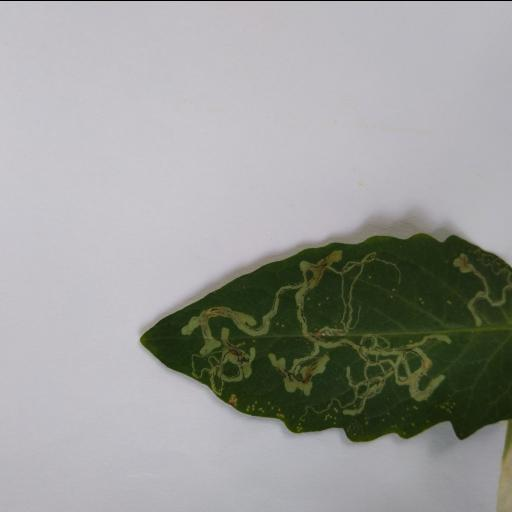disease_tomato: (138, 228, 507, 442)
